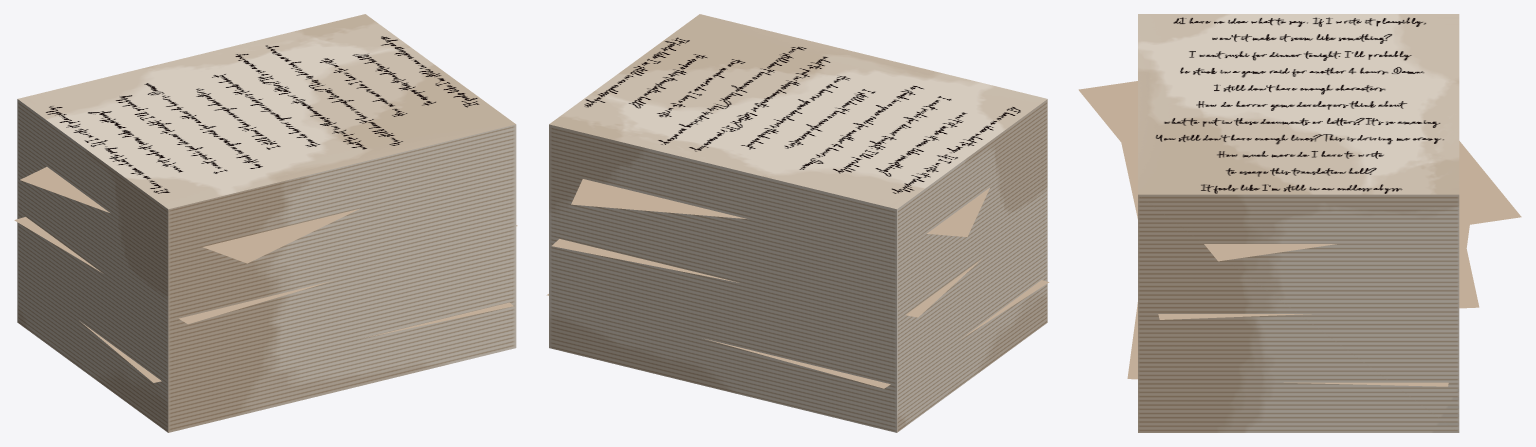
Rendered from Document.fbx.
The picture shows the model from 3 angles, left to right: view 1: azimuth 30°, elevation 25°; view 2: azimuth 150°, elevation 25°; view 3: azimuth 270°, elevation 25°; orthographic projection. The views are drawn at different scales.
Parts seen in each view (by area): view 1: Box001, Plane002, Plane001, Plane003; view 2: Box001, Plane002, Plane001, Plane003; view 3: Box001, Plane002, Plane001, Plane003.
Boxes of the visible parts, x1=… form: Box001: x1=17, y1=14, x2=516, y2=432; Plane002: x1=20, y1=167, x2=359, y2=263; Plane001: x1=14, y1=217, x2=517, y2=324; Plane003: x1=80, y1=302, x2=513, y2=382; Box001: x1=549, y1=14, x2=1047, y2=432; Plane002: x1=571, y1=179, x2=989, y2=236; Plane001: x1=552, y1=239, x2=981, y2=317; Plane003: x1=546, y1=280, x2=1049, y2=388; Box001: x1=1138, y1=14, x2=1459, y2=432; Plane002: x1=1078, y1=81, x2=1521, y2=261; Plane001: x1=1121, y1=143, x2=1479, y2=319; Plane003: x1=1127, y1=225, x2=1469, y2=386.
Size of the model in its own units: 68.73 by 35.33 by 59.66.
2 materials, 1 textured.
